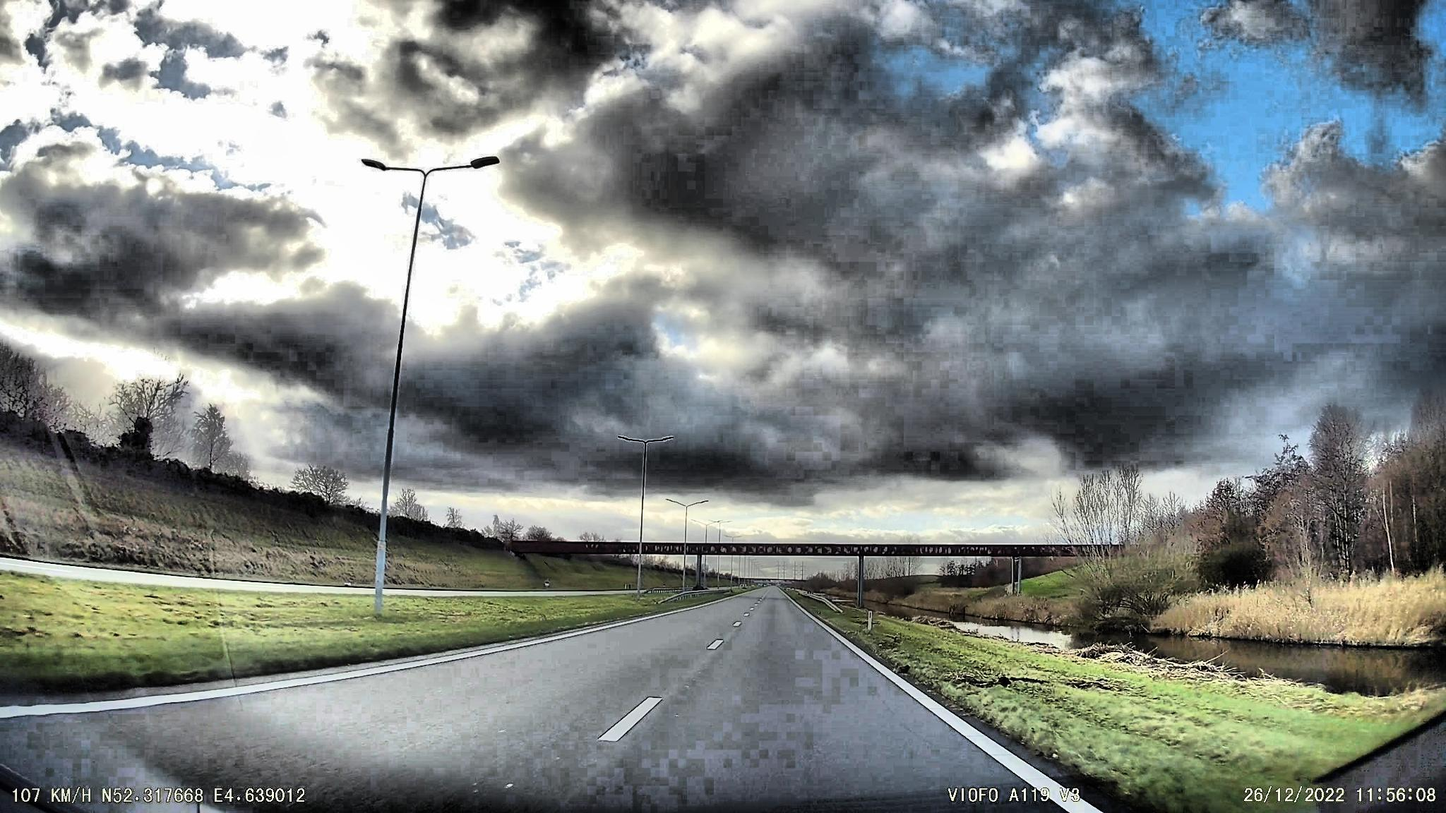Roads: (0, 590, 1102, 813)
